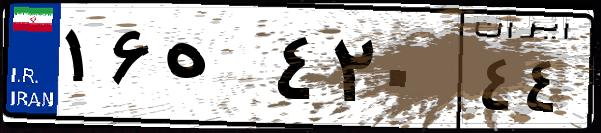0: (385, 28, 445, 110)
1: (57, 26, 110, 100)
2: (330, 28, 385, 110)
4: (270, 28, 330, 110), (475, 38, 525, 113), (525, 38, 570, 115)
6: (110, 28, 158, 98)
ه: (158, 20, 270, 120)
